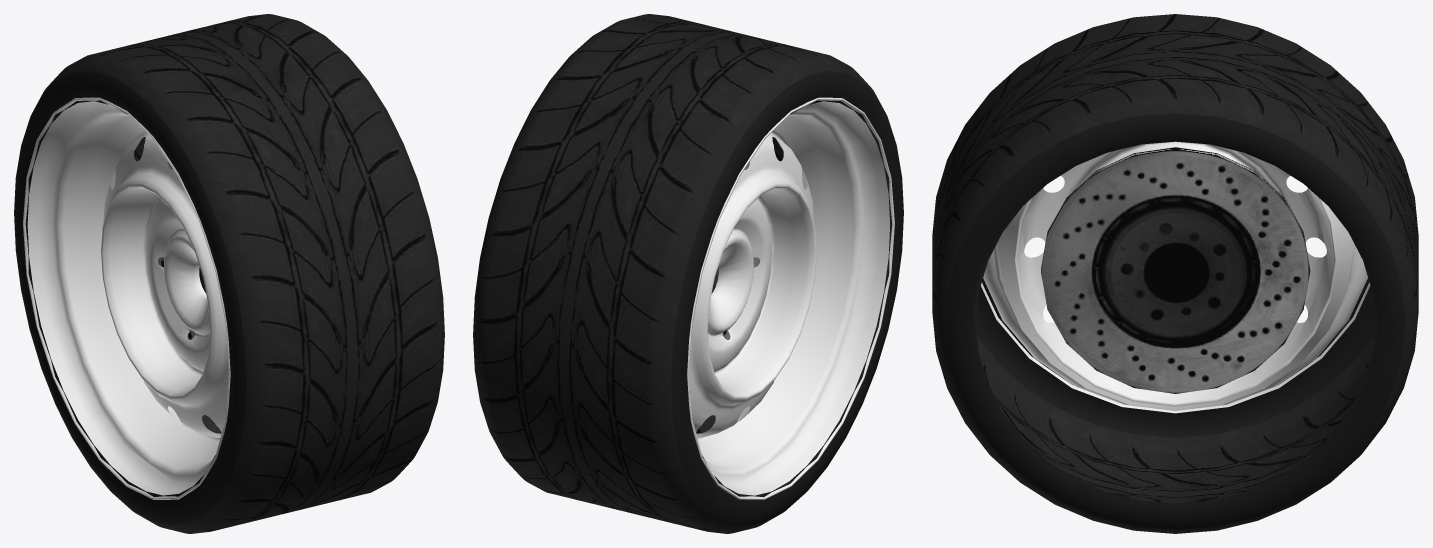
Rendered from 07_Steel.fbx.
3 views of the same model, side by side, from view 1: azimuth 30°, elevation 25°; view 2: azimuth 150°, elevation 25°; view 3: azimuth 270°, elevation 25° (orthographic).
Parts seen in each view (by area): view 1: Combined No Name Object 0, Steel, Combined co_contisportcontact_2_vmax_wall Object 0; view 2: Combined No Name Object 0, Steel, Combined co_contisportcontact_2_vmax_wall Object 0; view 3: Combined No Name Object 0, Rotor, Combined co_contisportcontact_2_vmax_wall Object 0, Steel.
Boxes of the visible parts, x1,y1,x2,y2 form: Combined No Name Object 0: (14,14,444,533); Steel: (23,97,230,499); Combined co_contisportcontact_2_vmax_wall Object 0: (14,70,246,525); Combined No Name Object 0: (473,14,903,533); Steel: (687,97,894,499); Combined co_contisportcontact_2_vmax_wall Object 0: (671,70,903,525); Combined No Name Object 0: (932,14,1418,533); Rotor: (1041,147,1310,393); Combined co_contisportcontact_2_vmax_wall Object 0: (945,113,1405,530); Steel: (981,141,1370,413).
Bounding box in the file's own units: 0.3334 × 0.688 × 0.688.
